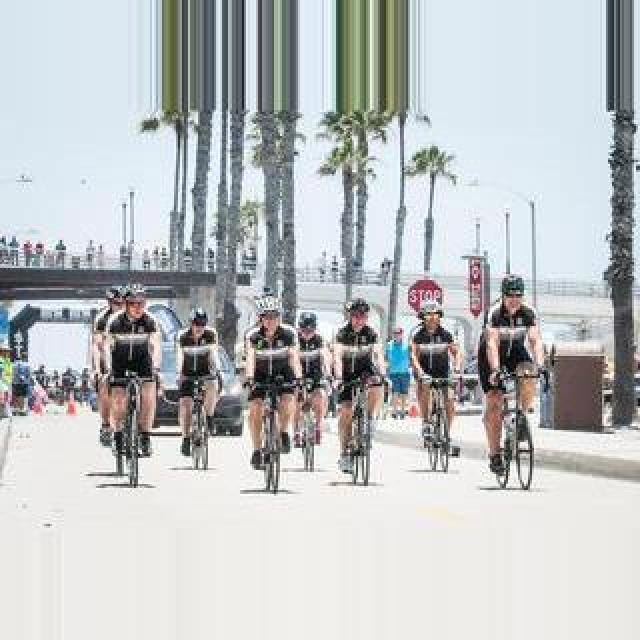MC-Bike: (476, 274, 548, 472), (94, 288, 164, 454), (240, 306, 304, 462), (332, 298, 388, 464), (408, 302, 462, 452), (174, 310, 224, 454), (294, 312, 336, 444), (384, 322, 412, 418)
Person: (97, 291, 161, 479), (491, 364, 547, 490), (248, 377, 298, 493), (335, 370, 385, 484), (109, 375, 153, 487), (415, 373, 459, 473), (179, 378, 217, 470), (296, 376, 328, 472), (380, 374, 394, 418)
